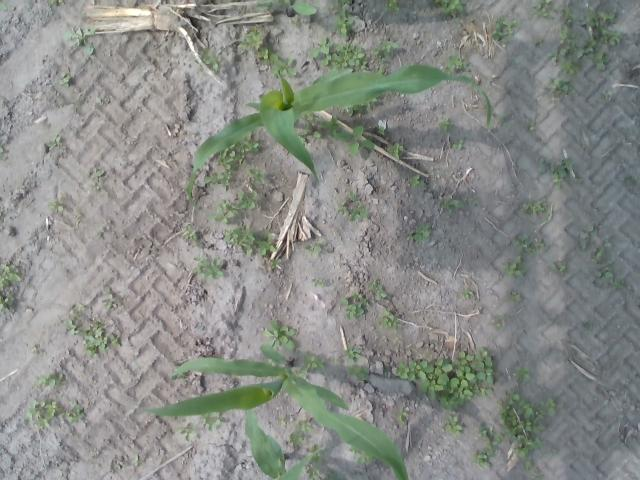Maize: (184, 61, 492, 210), (140, 341, 411, 480), (245, 404, 322, 480), (256, 0, 318, 18)
Weeds: (394, 346, 498, 412), (497, 391, 546, 458), (320, 114, 375, 156), (536, 26, 584, 74), (309, 37, 369, 72), (217, 132, 260, 170), (79, 321, 121, 359), (580, 9, 621, 46), (222, 224, 260, 256), (23, 399, 61, 431), (540, 158, 574, 190), (238, 25, 270, 59), (62, 26, 97, 56), (262, 319, 296, 349), (260, 50, 296, 78), (330, 0, 354, 39), (476, 424, 503, 456), (340, 292, 370, 320), (298, 110, 320, 146), (192, 256, 225, 280), (338, 97, 377, 116), (208, 201, 240, 224), (196, 46, 222, 74), (492, 15, 518, 43), (512, 233, 545, 255), (544, 78, 577, 100), (65, 302, 86, 336), (519, 200, 552, 221), (290, 418, 313, 447), (434, 0, 468, 19), (0, 262, 23, 290), (584, 46, 610, 70), (348, 442, 376, 464), (372, 40, 399, 62), (442, 54, 470, 74), (406, 222, 432, 243), (33, 372, 67, 388), (202, 170, 232, 188), (200, 410, 224, 432), (502, 256, 526, 278), (62, 400, 84, 424), (378, 308, 401, 330), (439, 194, 465, 213), (530, 0, 554, 20), (442, 414, 463, 436), (258, 233, 278, 256), (302, 353, 326, 372), (236, 190, 258, 210), (576, 224, 593, 249), (346, 364, 370, 381), (178, 422, 198, 442), (368, 279, 387, 300), (100, 286, 116, 310), (304, 237, 324, 256), (308, 443, 327, 463), (344, 345, 364, 363), (349, 204, 368, 222), (594, 266, 614, 283), (471, 452, 492, 468), (386, 142, 404, 160), (513, 364, 530, 381), (248, 168, 266, 184), (170, 364, 187, 380), (561, 6, 576, 24), (90, 168, 102, 190), (0, 292, 15, 309), (550, 262, 566, 277), (408, 174, 424, 189), (336, 201, 351, 216), (384, 0, 401, 13), (45, 134, 60, 148), (438, 118, 453, 132), (58, 72, 71, 88), (591, 246, 604, 262), (344, 190, 361, 202), (545, 398, 556, 416), (182, 226, 196, 240), (599, 90, 613, 104), (50, 201, 64, 214), (398, 408, 408, 426), (305, 466, 319, 478), (460, 288, 474, 300), (495, 316, 507, 330), (612, 278, 625, 290), (498, 114, 510, 127), (525, 120, 537, 132), (263, 356, 276, 367), (269, 258, 282, 269), (508, 293, 522, 303), (452, 139, 464, 150), (312, 278, 325, 288), (294, 369, 308, 378), (47, 0, 63, 7), (328, 472, 342, 480), (530, 469, 540, 480), (376, 66, 386, 76), (0, 0, 8, 12), (524, 459, 532, 471), (95, 96, 104, 106), (291, 18, 300, 28), (92, 232, 102, 240), (277, 418, 286, 426), (377, 125, 385, 134), (467, 198, 475, 204), (115, 464, 122, 470), (0, 146, 4, 154)
